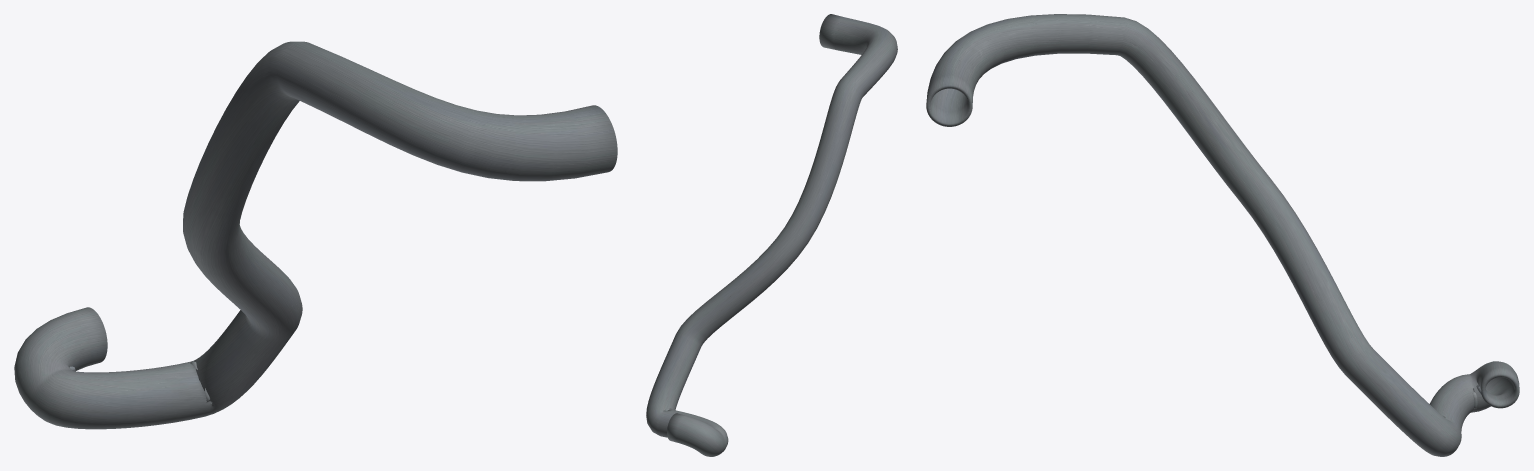
File: TurboCharger_Intercooler_Manifold_Weber_Pipe.obj
The picture shows the model from 3 angles, left to right: view 1: azimuth 30°, elevation 25°; view 2: azimuth 150°, elevation 25°; view 3: azimuth 270°, elevation 25°; orthographic projection. The views are drawn at different scales.
Parts seen in each view (by area): view 1: TurboCharger_Intercooler_Manifold_Weber_Pipe_BezierCurve.016; view 2: TurboCharger_Intercooler_Manifold_Weber_Pipe_BezierCurve.016; view 3: TurboCharger_Intercooler_Manifold_Weber_Pipe_BezierCurve.016.
Boxes of the visible parts, left/top/right/bottom form: TurboCharger_Intercooler_Manifold_Weber_Pipe_BezierCurve.016: left=14, top=41, right=617, bottom=429; TurboCharger_Intercooler_Manifold_Weber_Pipe_BezierCurve.016: left=646, top=14, right=897, bottom=456; TurboCharger_Intercooler_Manifold_Weber_Pipe_BezierCurve.016: left=926, top=14, right=1519, bottom=456.
Size of the model in its own units: 0.1958 by 0.5247 by 0.7112.
